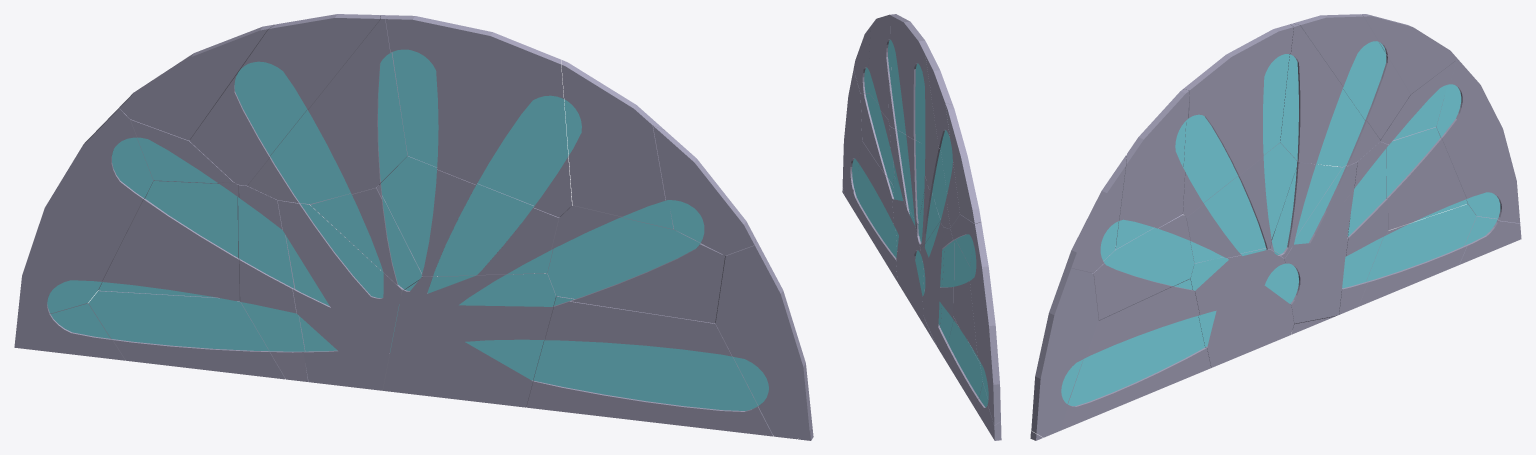
The model's file is WindowsBroken.fbx.
3 renders of one model, left to right at view 1: azimuth 30°, elevation 25°; view 2: azimuth 150°, elevation 25°; view 3: azimuth 270°, elevation 25°, orthographic. The views are drawn at different scales.
Parts seen in each view (by area): view 1: dome.window.003_cell.022, dome.window.003_cell.038, dome.window.003_cell.004, dome.window.003_cell.033, dome.window.003_cell.023, dome.window.003_cell.032, dome.window.003_cell.027, dome.window.003_cell.029, dome.window.003_cell.010, dome.window.003_cell.028, dome.window.003_cell.012, dome.window.003_cell.005 (+7 smaller); view 2: dome.window.003_cell.022, dome.window.003_cell.023, dome.window.003_cell.038, dome.window.003_cell.004, dome.window.003_cell.033, dome.window.003_cell.010, dome.window.003_cell.029, dome.window.003_cell.032, dome.window.003_cell.012, dome.window.003_cell.008, dome.window.003_cell.027, dome.window.003_cell.009 (+7 smaller); view 3: dome.window.003_cell.022, dome.window.003_cell.038, dome.window.003_cell.004, dome.window.003_cell.033, dome.window.003_cell.023, dome.window.003_cell.010, dome.window.003_cell.012, dome.window.003_cell.032, dome.window.003_cell.009, dome.window.003_cell.029, dome.window.003_cell.027, dome.window.003_cell.005 (+7 smaller).
Boxes of the visible parts, bbox=[...] form: dome.window.003_cell.022: bbox=[385, 15, 571, 217]; dome.window.003_cell.038: bbox=[526, 296, 773, 436]; dome.window.003_cell.004: bbox=[383, 273, 555, 407]; dome.window.003_cell.033: bbox=[247, 15, 407, 204]; dome.window.003_cell.023: bbox=[17, 105, 153, 322]; dome.window.003_cell.032: bbox=[277, 200, 402, 390]; dome.window.003_cell.027: bbox=[547, 205, 724, 323]; dome.window.003_cell.029: bbox=[189, 14, 380, 185]; dome.window.003_cell.010: bbox=[376, 156, 559, 276]; dome.window.003_cell.028: bbox=[98, 181, 239, 301]; dome.window.003_cell.012: bbox=[561, 59, 675, 230]; dome.window.003_cell.005: bbox=[88, 290, 285, 379]; dome.window.003_cell.022: bbox=[888, 14, 930, 142]; dome.window.003_cell.023: bbox=[970, 222, 1000, 425]; dome.window.003_cell.038: bbox=[850, 141, 897, 281]; dome.window.003_cell.004: bbox=[892, 176, 924, 322]; dome.window.003_cell.033: bbox=[921, 51, 950, 228]; dome.window.003_cell.010: bbox=[889, 126, 924, 227]; dome.window.003_cell.029: bbox=[925, 53, 960, 227]; dome.window.003_cell.032: bbox=[920, 221, 944, 346]; dome.window.003_cell.012: bbox=[868, 14, 896, 119]; dome.window.003_cell.008: bbox=[945, 103, 981, 223]; dome.window.003_cell.027: bbox=[860, 93, 894, 184]; dome.window.003_cell.009: bbox=[842, 70, 862, 204]; dome.window.003_cell.022: bbox=[1182, 24, 1293, 217]; dome.window.003_cell.038: bbox=[1060, 279, 1211, 430]; dome.window.003_cell.004: bbox=[1190, 248, 1293, 367]; dome.window.003_cell.033: bbox=[1280, 23, 1380, 166]; dome.window.003_cell.023: bbox=[1436, 59, 1520, 223]; dome.window.003_cell.010: bbox=[1185, 143, 1298, 263]; dome.window.003_cell.012: bbox=[1115, 89, 1189, 249]; dome.window.003_cell.032: bbox=[1284, 161, 1357, 327]; dome.window.003_cell.009: bbox=[1031, 268, 1098, 437]; dome.window.003_cell.029: bbox=[1293, 14, 1410, 139]; dome.window.003_cell.027: bbox=[1092, 214, 1194, 320]; dome.window.003_cell.005: bbox=[1358, 204, 1476, 306].
Bounding box in the file's own units: 314 × 221 × 319.
